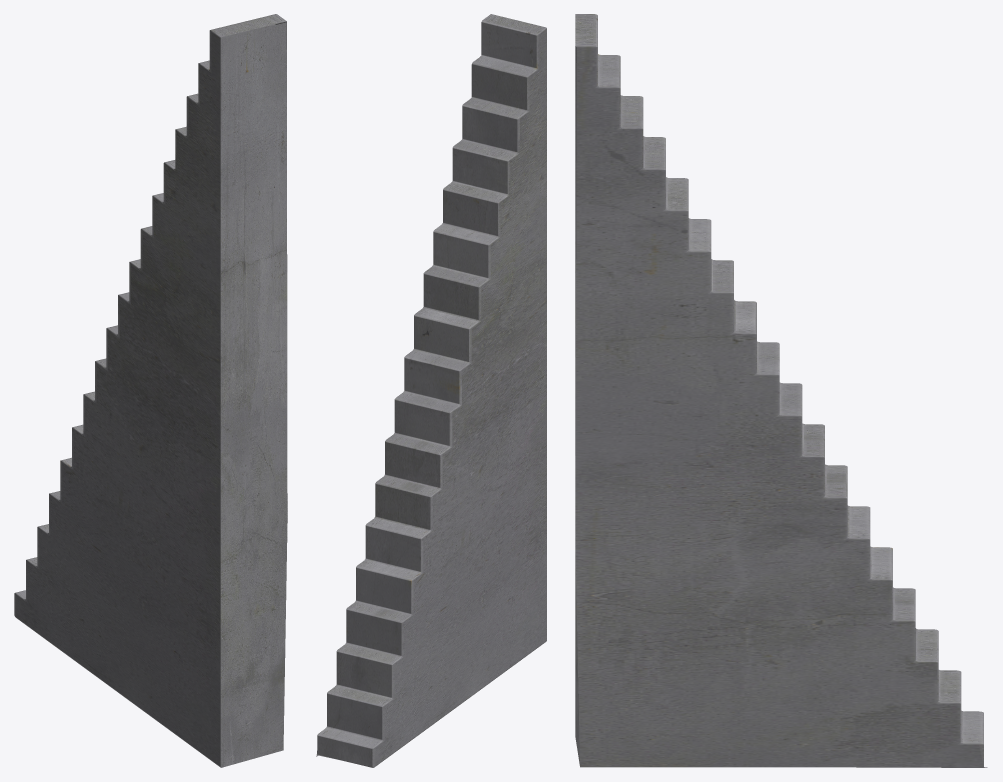
The model's file is stairs1.fbx.
The picture shows the model from 3 angles, left to right: view 1: azimuth 30°, elevation 25°; view 2: azimuth 150°, elevation 25°; view 3: azimuth 270°, elevation 25°; orthographic projection. The views are drawn at different scales.
Parts seen in each view (by area): view 1: stair_smol2.001; view 2: stair_smol2.001; view 3: stair_smol2.001.
Part boxes in pixels (box(x1,y1,x2,y2)): stair_smol2.001: box(14, 14, 287, 767); stair_smol2.001: box(316, 14, 546, 767); stair_smol2.001: box(575, 14, 987, 767).
Bounding box in the file's own units: 200 × 2082 × 1081.
